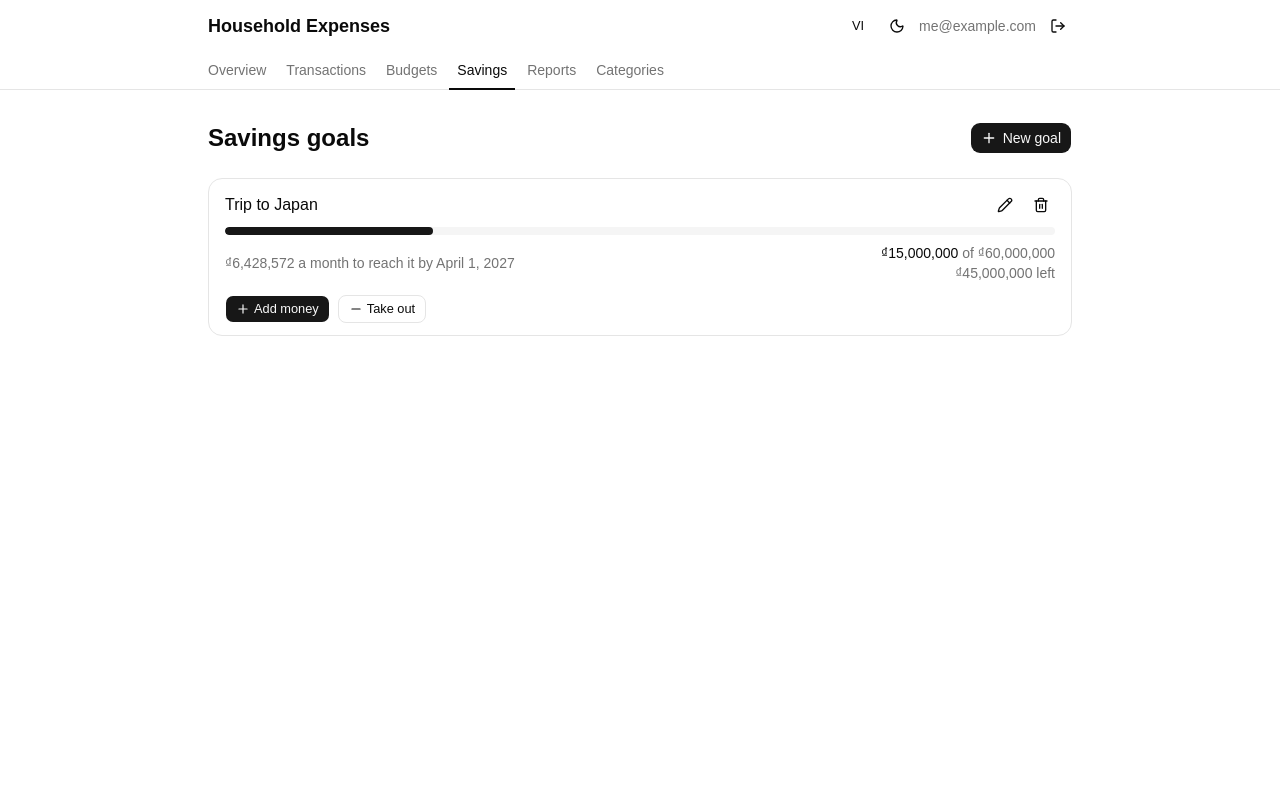
Test: savings page › updates the amount left after adding money
Expected: the text "₫45,000,000 left" is shown, [955,265,1055,281]
Click the button with aria-label "Add money to Trip to Japan". click: [277, 309]
box: [225,295,330,323]
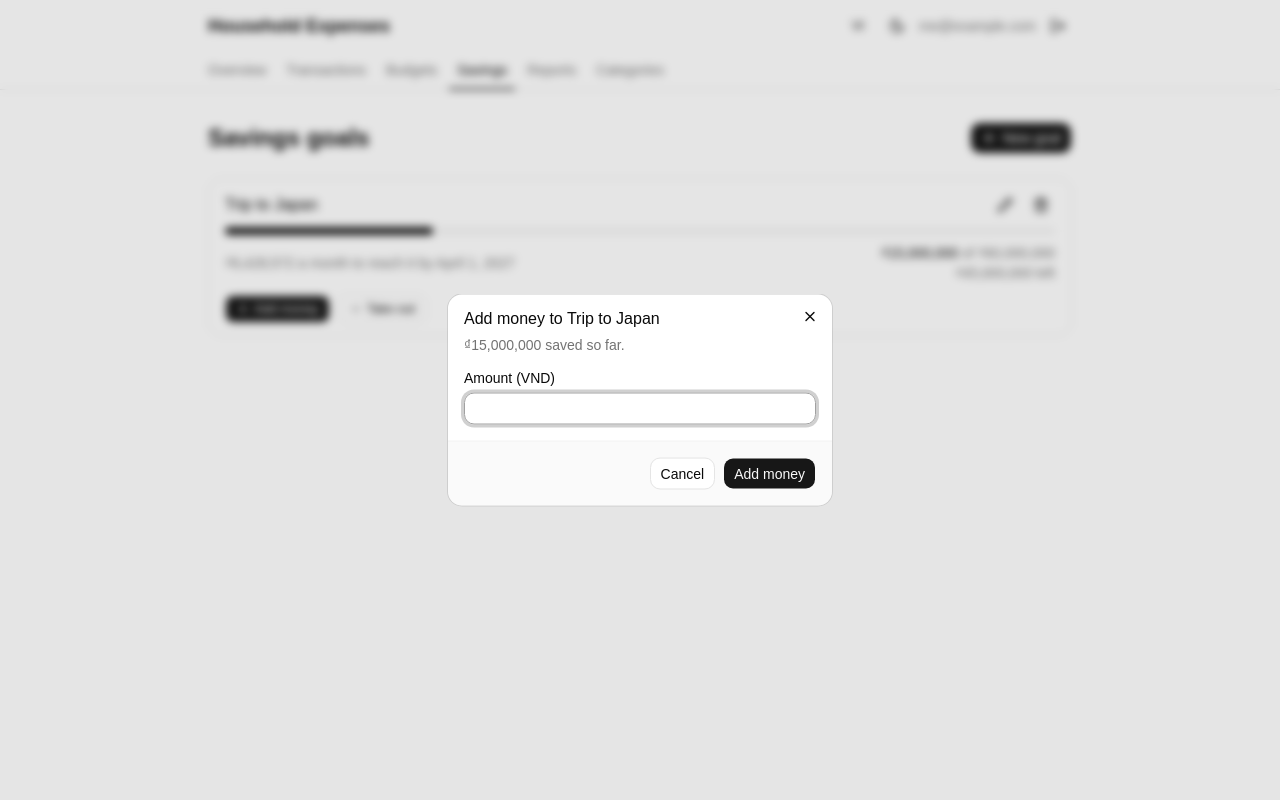
Type "5000000" into the field labelled "Amount (VND)". click: [640, 408]
box: [464,392,816,424]
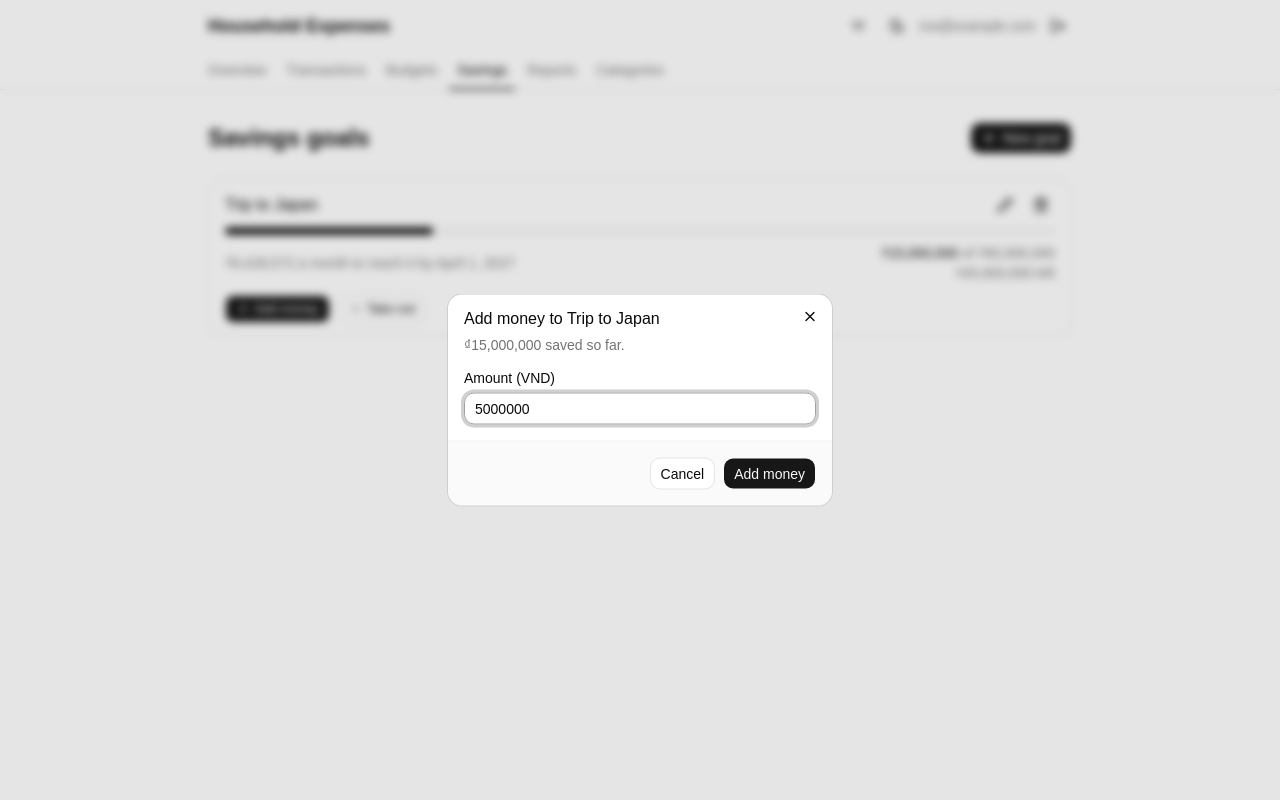
Click the button "Add money". click: [770, 474]
box: [723,458,816,490]
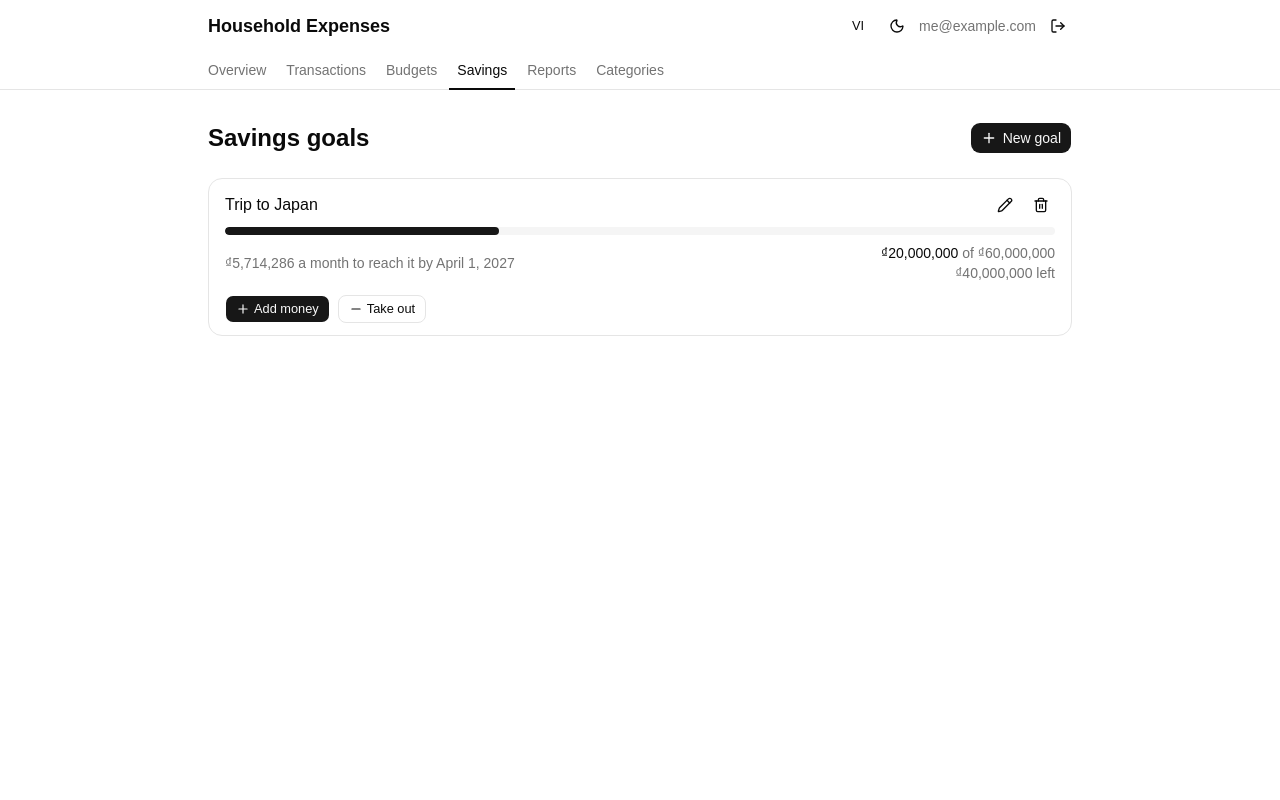
Result: the text "₫40,000,000 left" is shown at [955,265,1055,281]
